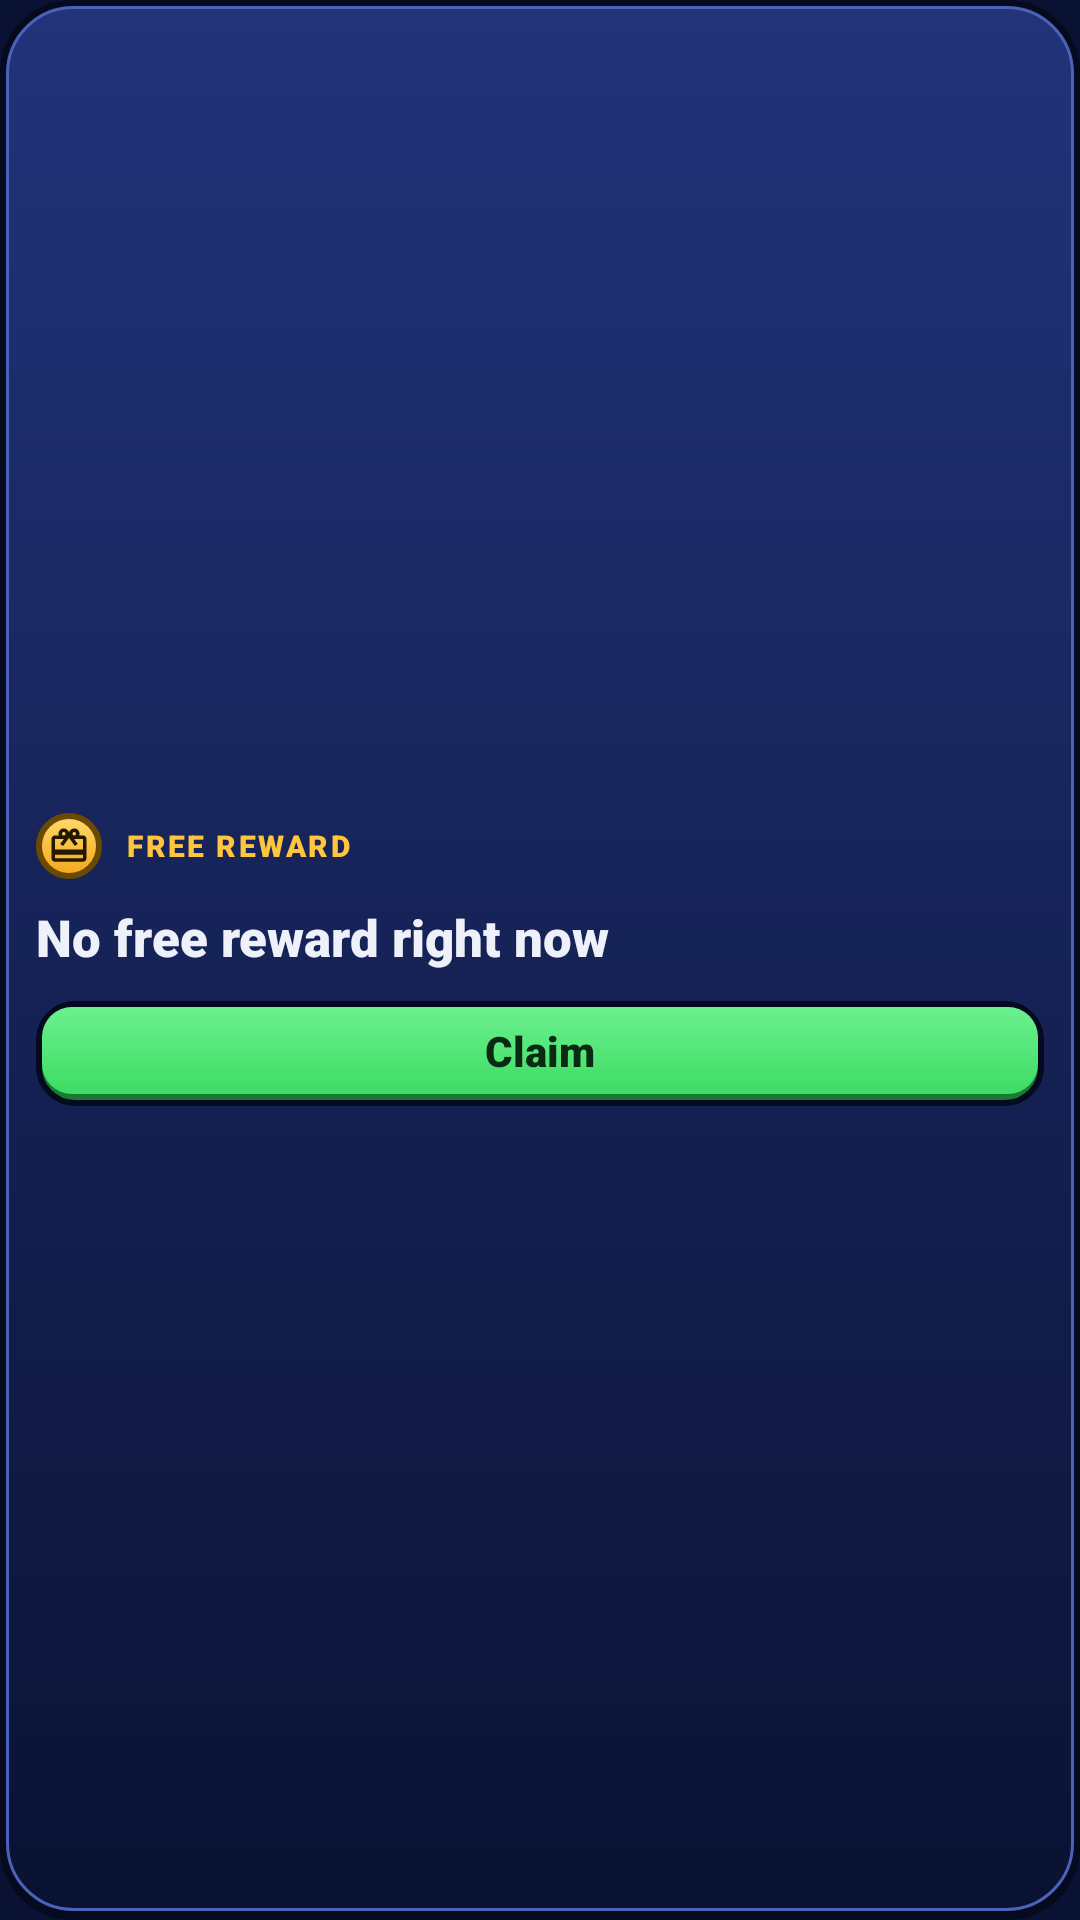

Icons on this 1080×1920 Android screen, each with the point to tap as (x=x, y=y):
gift: (x=69, y=846)
